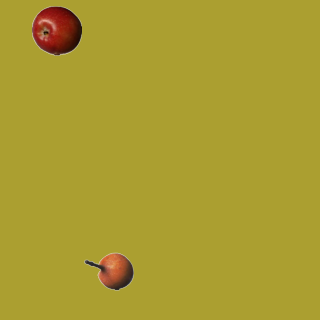Apple Braeburn: (31, 5, 81, 55)
Granadilla: (83, 246, 133, 296)
